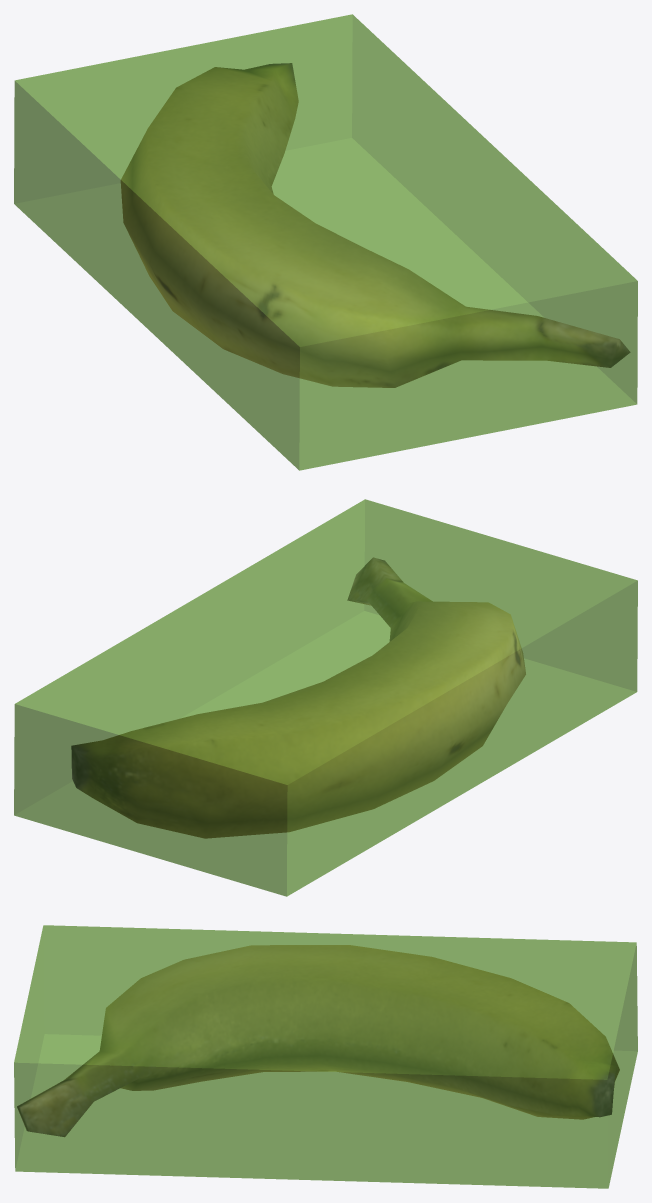
The model's file is pg_Banana_04.fbx.
3 views of the same model, one above another, from view 1: azimuth 30°, elevation 25°; view 2: azimuth 150°, elevation 25°; view 3: azimuth 270°, elevation 25° (orthographic). The views are drawn at different scales.
Visible parts, largest first — view 1: pg_Banana_04_a_col, pg_Banana_04_a_LOD0; view 2: pg_Banana_04_a_col, pg_Banana_04_a_LOD0; view 3: pg_Banana_04_a_col, pg_Banana_04_a_LOD0.
Boxes of the visible parts, x1=… form: pg_Banana_04_a_col: x1=14, y1=14, x2=637, y2=470; pg_Banana_04_a_LOD0: x1=120, y1=63, x2=630, y2=387; pg_Banana_04_a_col: x1=14, y1=499, x2=637, y2=896; pg_Banana_04_a_LOD0: x1=71, y1=557, x2=525, y2=838; pg_Banana_04_a_col: x1=14, y1=925, x2=637, y2=1188; pg_Banana_04_a_LOD0: x1=17, y1=945, x2=619, y2=1136.
Size of what is drawn, in the model's own units: 13.63 by 4.53 by 22.44.
